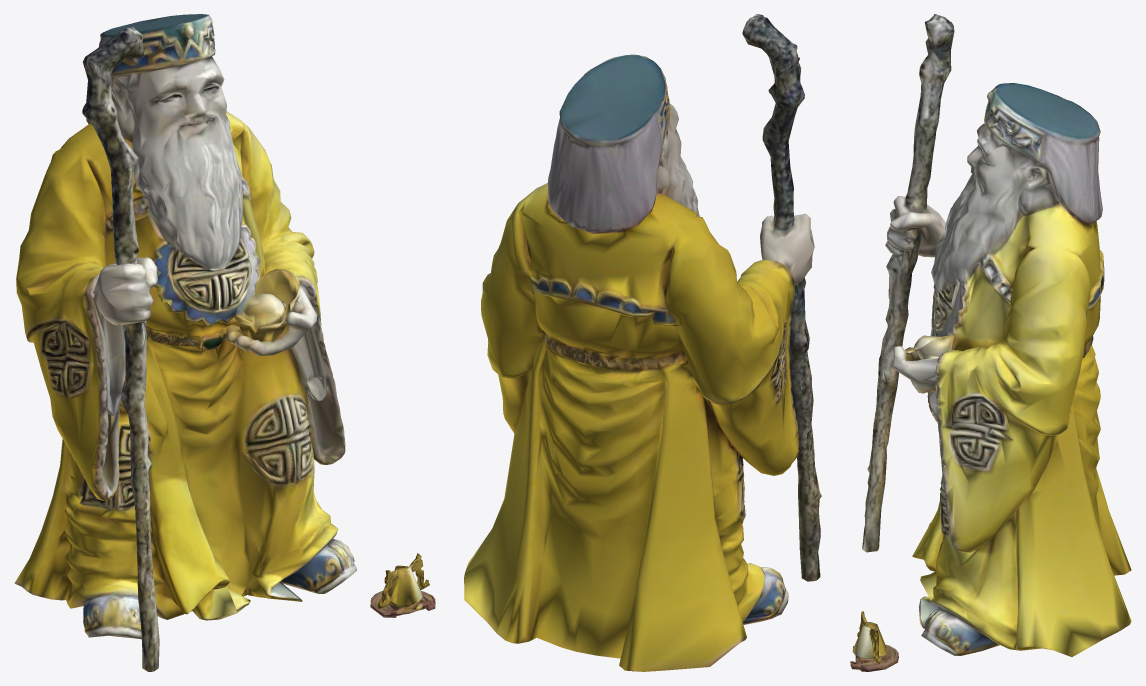
The model's file is tudigong-statue.glb.
3 views of the same model, side by side, from view 1: azimuth 30°, elevation 25°; view 2: azimuth 150°, elevation 25°; view 3: azimuth 270°, elevation 25° (orthographic). The views are drawn at different scales.
Visible parts, largest first — view 1: tripo_node_42ce41e2-7913-4cdb-a63e-f5a8c7918dde; view 2: tripo_node_42ce41e2-7913-4cdb-a63e-f5a8c7918dde; view 3: tripo_node_42ce41e2-7913-4cdb-a63e-f5a8c7918dde.
Part boxes in pixels (x1=…): tripo_node_42ce41e2-7913-4cdb-a63e-f5a8c7918dde: x1=14, y1=14, x2=435, y2=671; tripo_node_42ce41e2-7913-4cdb-a63e-f5a8c7918dde: x1=464, y1=14, x2=821, y2=671; tripo_node_42ce41e2-7913-4cdb-a63e-f5a8c7918dde: x1=850, y1=14, x2=1131, y2=671.
Size of the model in its own units: 0.5536 by 0.9842 by 0.4611.
Materials: 1 (1 with a texture image).
